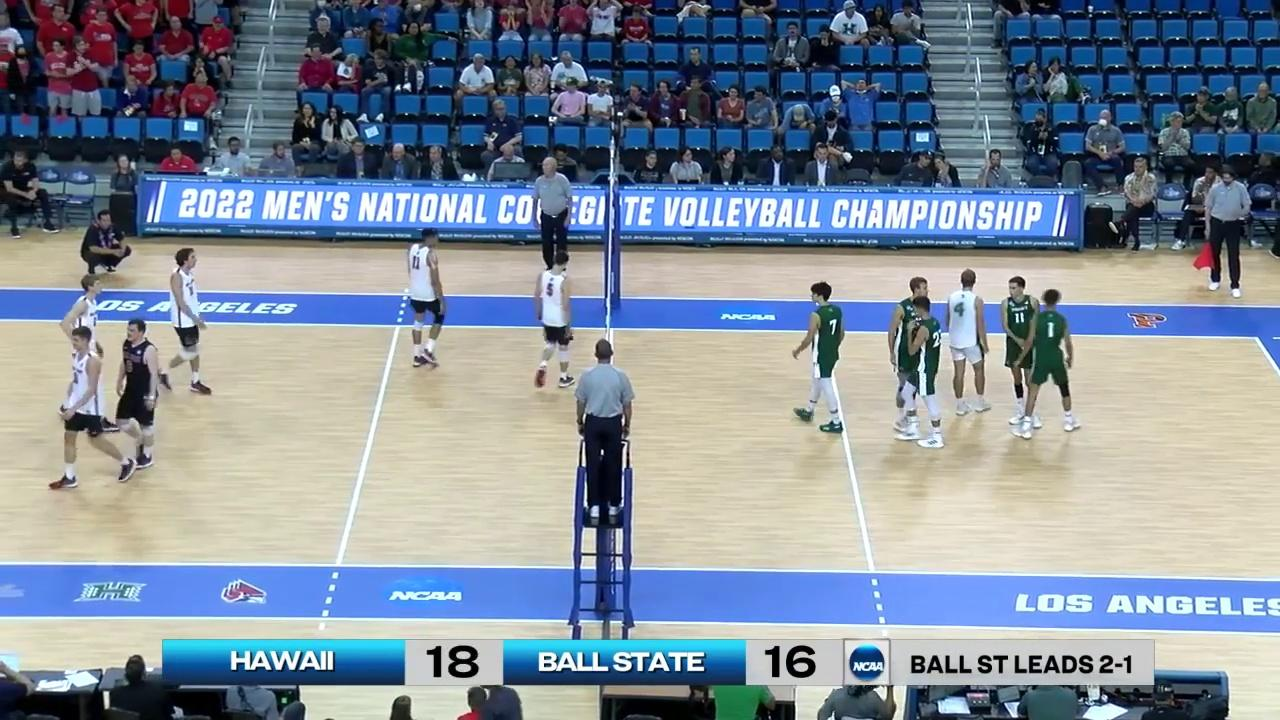player: (48, 327, 133, 487), (1015, 289, 1082, 439), (795, 281, 847, 432), (65, 275, 114, 430), (116, 318, 164, 471), (164, 251, 212, 399), (901, 297, 945, 450), (888, 278, 932, 430), (948, 268, 991, 413), (534, 252, 578, 389), (1000, 278, 1040, 427), (408, 228, 447, 367)
refree: (574, 340, 635, 511), (1202, 170, 1250, 297), (533, 153, 577, 277)
